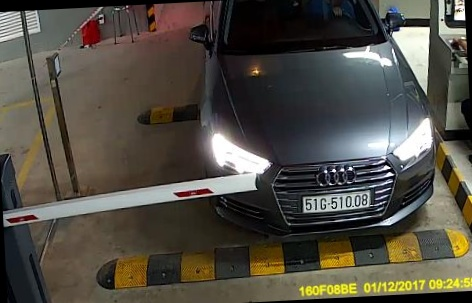plate: (294, 192, 376, 213)
